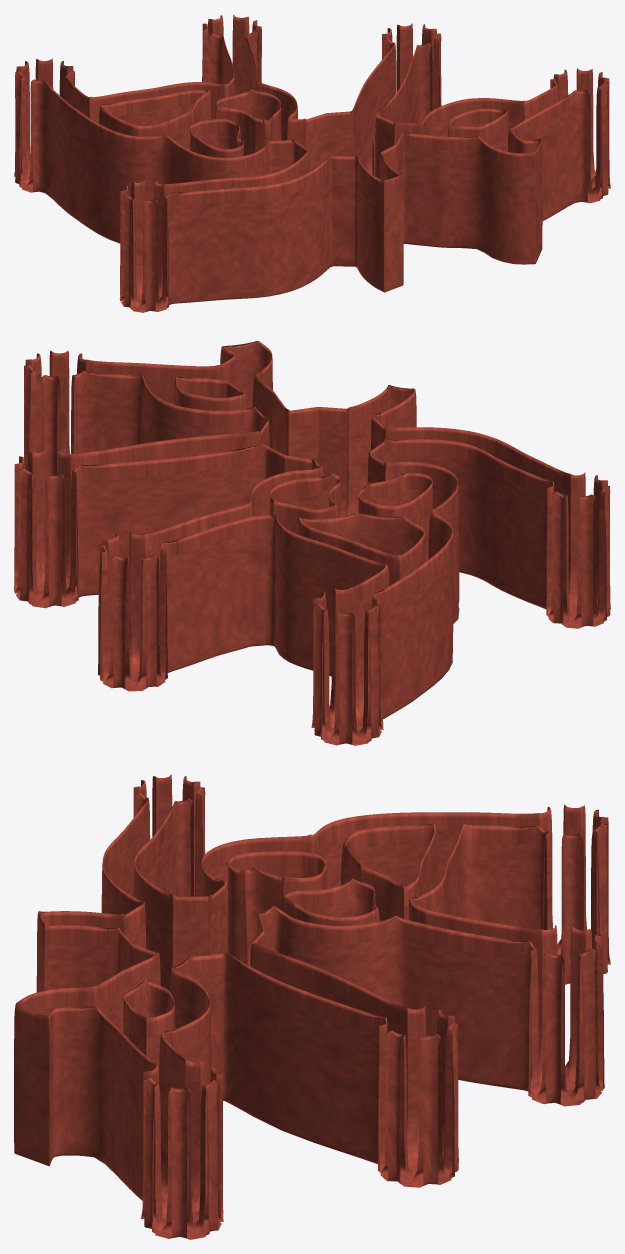
The model's file is level2_new_minimap.fbx.
The picture shows the model from 3 angles, top to bottom: view 1: azimuth 30°, elevation 25°; view 2: azimuth 150°, elevation 25°; view 3: azimuth 270°, elevation 25°; orthographic projection. The views are drawn at different scales.
Parts seen in each view (by area): view 1: polySurface9; view 2: polySurface9; view 3: polySurface9.
Boxes of the visible parts, bbox=[...] form: polySurface9: bbox=[14, 15, 610, 312]; polySurface9: bbox=[14, 341, 610, 745]; polySurface9: bbox=[14, 775, 610, 1239].
Bounding box in the file's own units: 130 × 28.83 × 103.
